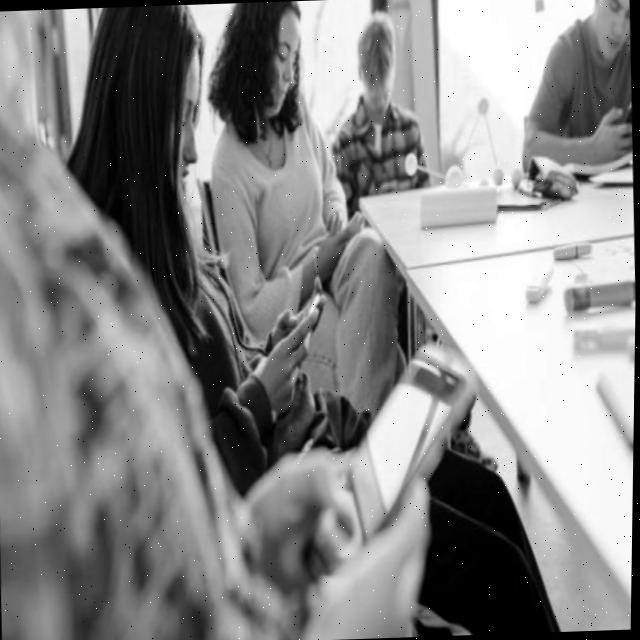phone: (296, 336, 486, 590)
